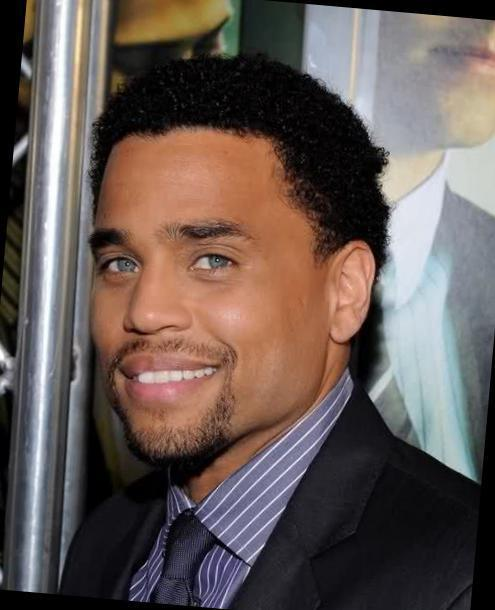Sober: (92, 140, 320, 428)
